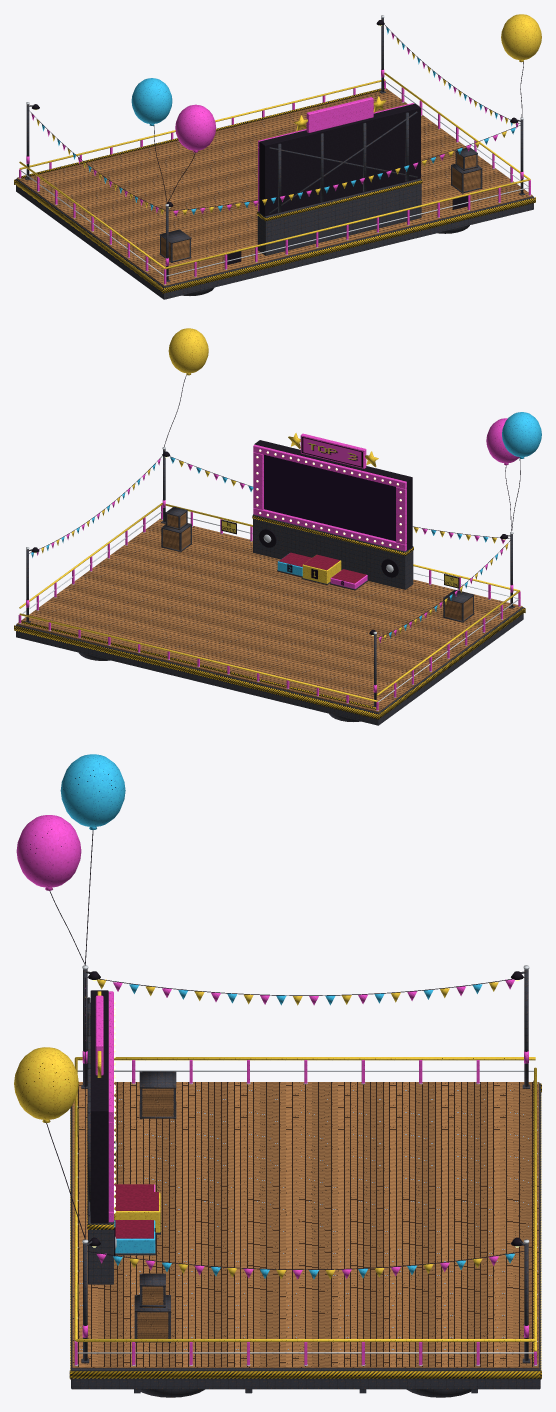
Rendered from x_lobby_deck.glb.
The picture shows the model from 3 angles, top to bottom: view 1: azimuth 30°, elevation 25°; view 2: azimuth 150°, elevation 25°; view 3: azimuth 270°, elevation 25°; orthographic projection. The views are drawn at different scales.
Visible parts, largest first — view 1: deck, balloon_2, balloon_1, balloon_0; view 2: deck, screen, balloon_1, balloon_2, balloon_0; view 3: deck, balloon_2, balloon_1, balloon_0.
Boxes of the visible parts, bbox=[...] form: deck: bbox=[14, 15, 535, 299]; balloon_2: bbox=[131, 78, 172, 203]; balloon_1: bbox=[501, 14, 541, 116]; balloon_0: bbox=[167, 104, 216, 203]; deck: bbox=[14, 433, 525, 725]; screen: bbox=[264, 454, 395, 541]; balloon_1: bbox=[164, 328, 208, 446]; balloon_2: bbox=[502, 412, 541, 531]; balloon_0: bbox=[486, 418, 519, 530]; deck: bbox=[69, 965, 541, 1397]; balloon_2: bbox=[60, 754, 125, 964]; balloon_1: bbox=[14, 1047, 85, 1239]; balloon_0: bbox=[16, 815, 85, 964].
Bounding box in the file's own units: 27.78 × 17.09 × 20.35.
13 materials, 9 textured.
